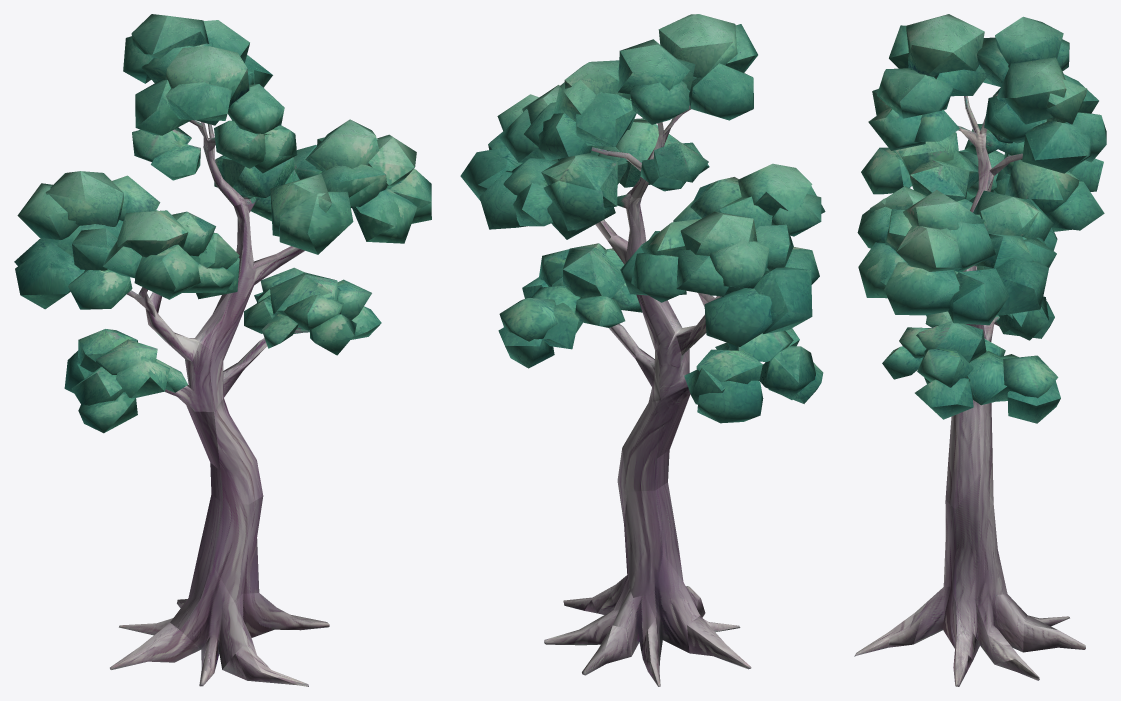
File: source.glb
3 renders of one model, left to right at view 1: azimuth 30°, elevation 25°; view 2: azimuth 150°, elevation 25°; view 3: azimuth 270°, elevation 25°, orthographic.
Size of the model in its own units: 0.6191 by 1 by 0.373.
1 material, 1 textured.
